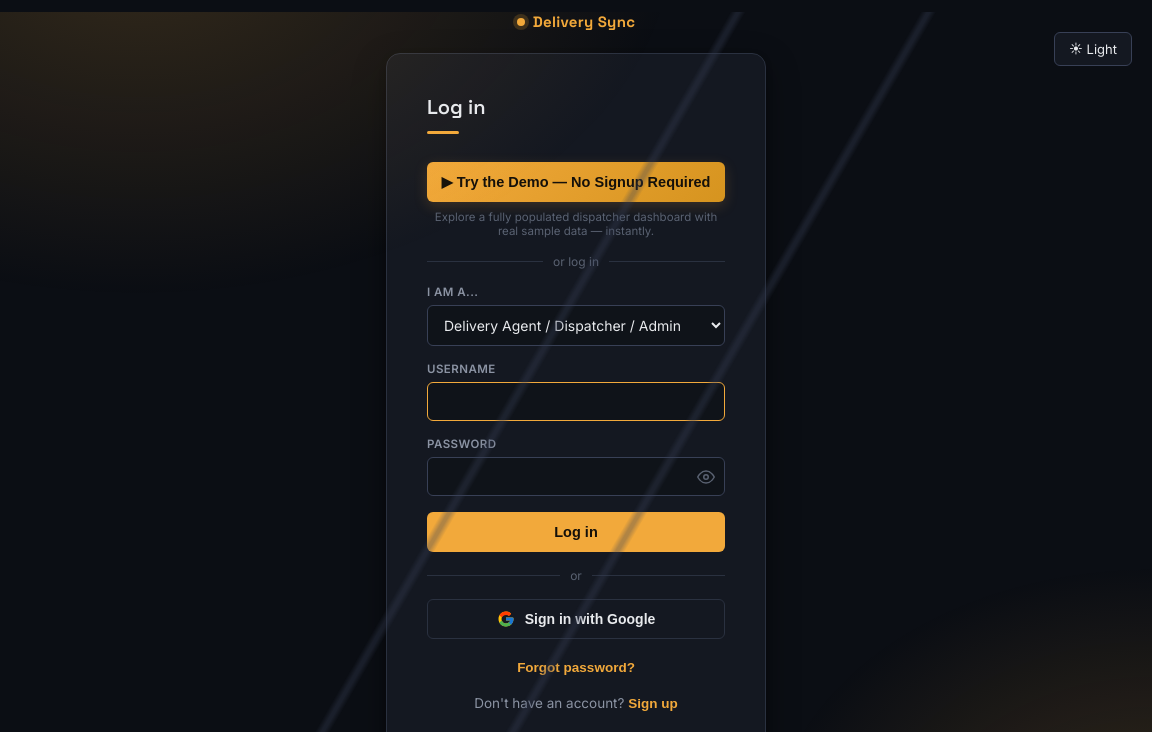
Test case: LoginPage › switches to the 2FA challenge step when the backend requires it
Step 1. Type "dispatcher1" into the field labelled "Username" → x=576, y=402, box [427,382,725,421]
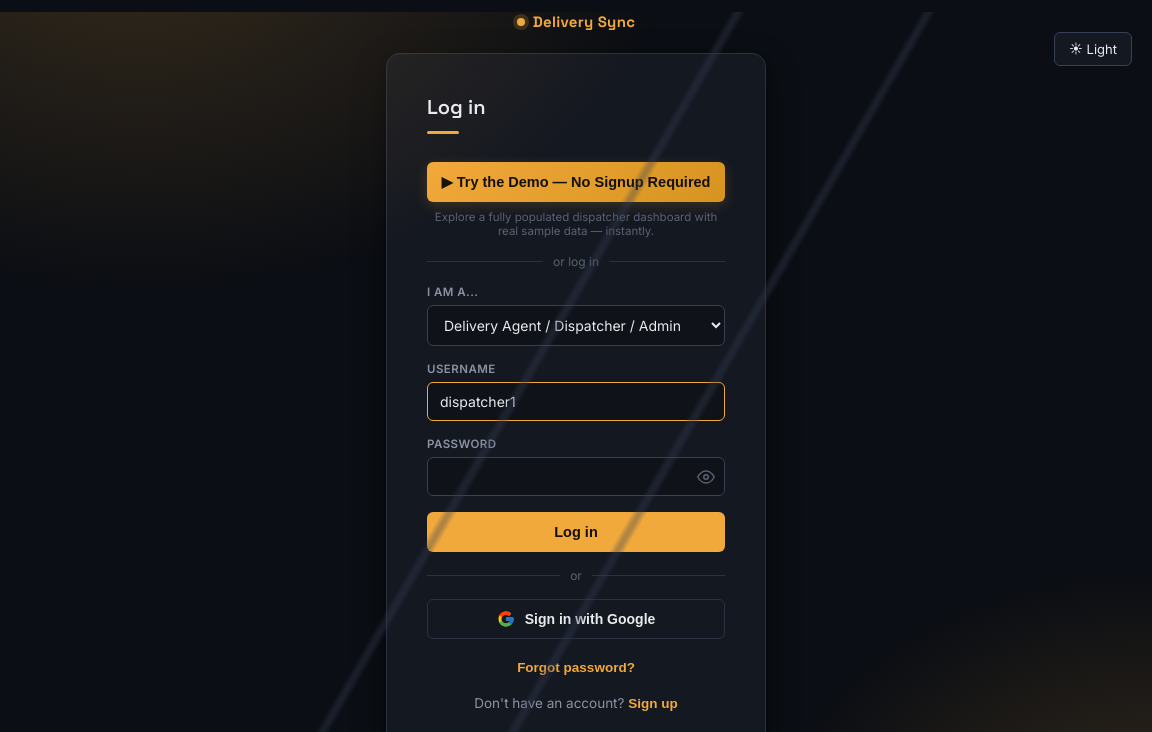
Step 2. Type "correct-horse" into the password field labelled "Password" → x=576, y=476, box [427,457,725,496]
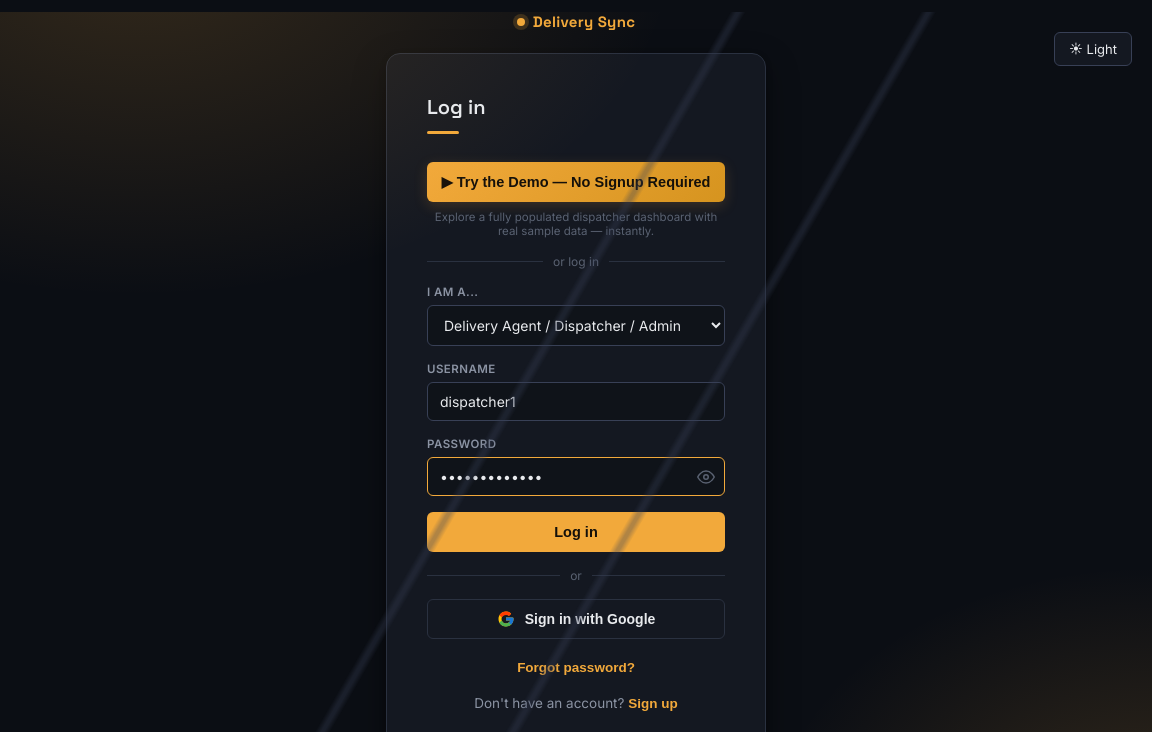
Step 3. Click the button "Log in" → x=576, y=532, box [427,512,725,552]
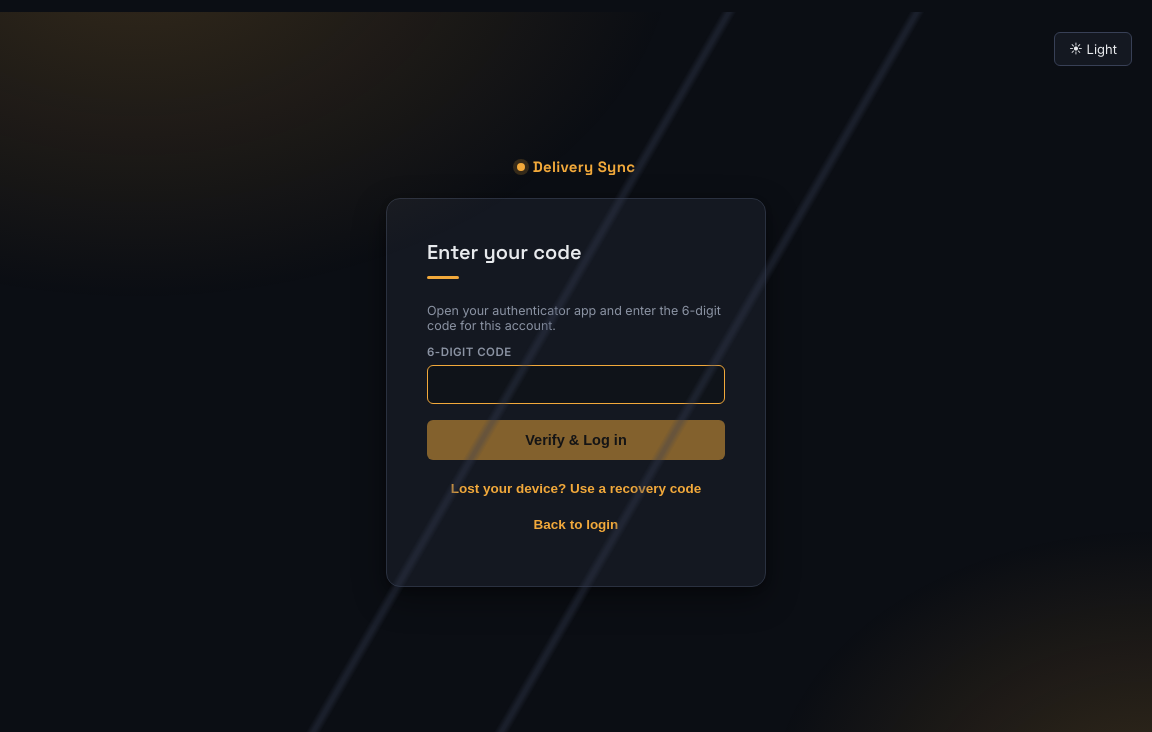
expect the heading "Enter your code" is shown: met, box [427,239,582,265]
